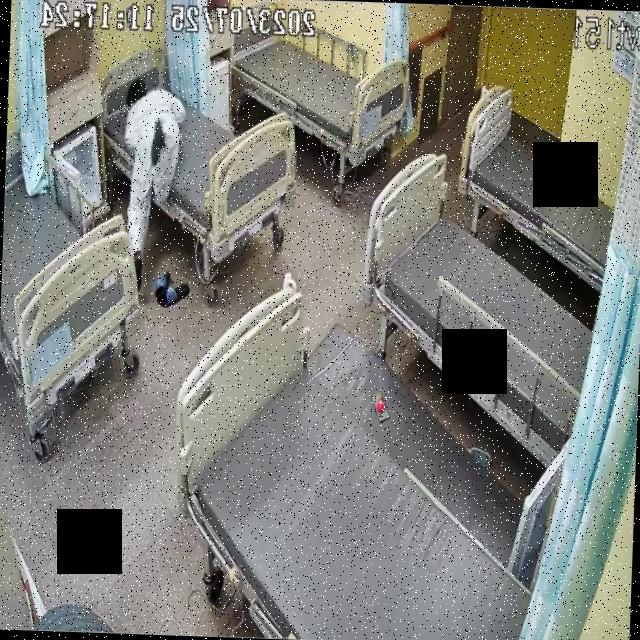bed: (176, 293, 542, 640), (360, 156, 604, 457), (0, 130, 142, 428), (98, 54, 300, 242), (455, 84, 620, 286), (228, 14, 406, 165)
danger: (118, 73, 185, 290)
patient: (118, 75, 185, 289)
